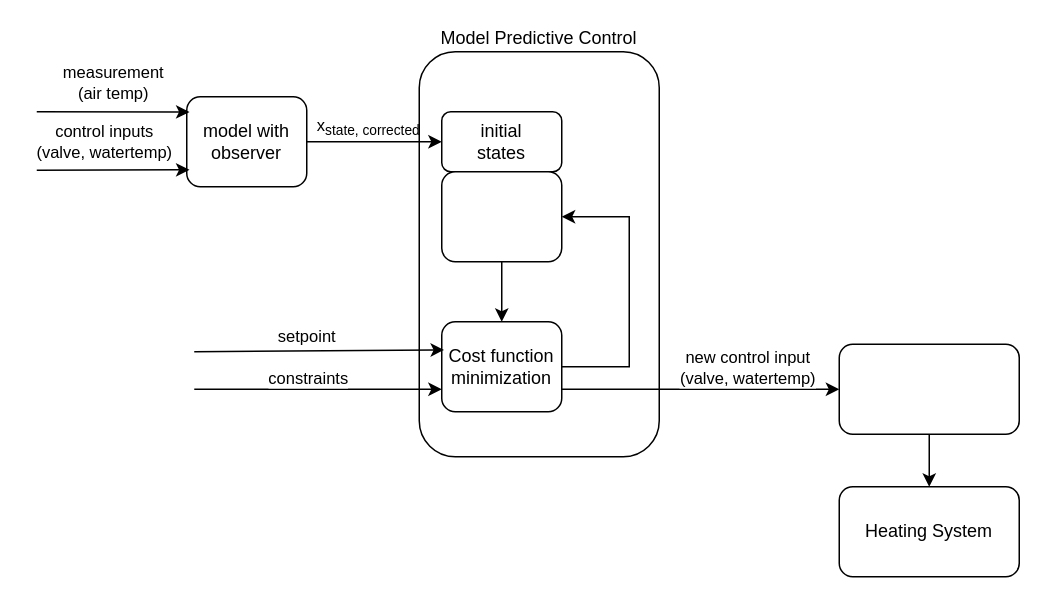
This 1046x603 diagram has some shape labels left out. Each missing label, with the centre of its shape:
"Convert desired watertemp to thermostat temperature" goes at (928,388).
"model without observer (prediction)" goes at (501,216).
